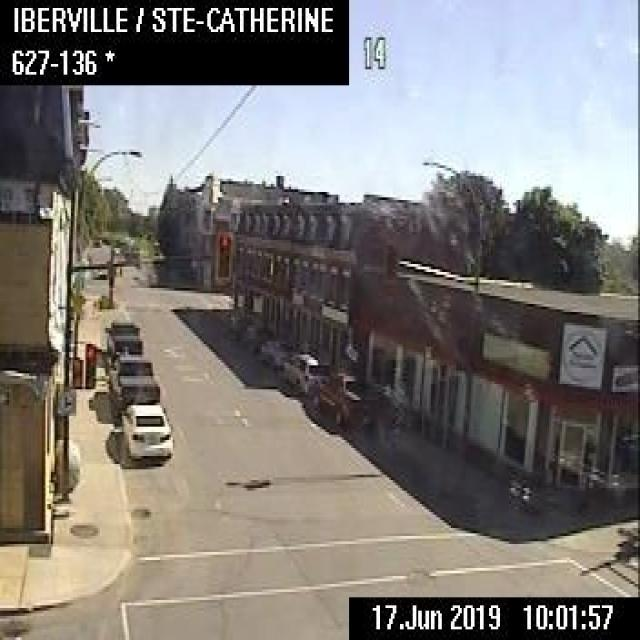vehicle: (311, 371, 377, 425), (119, 400, 172, 462), (107, 352, 160, 412), (281, 351, 329, 396), (104, 317, 141, 360), (260, 336, 290, 366), (240, 323, 271, 350)
